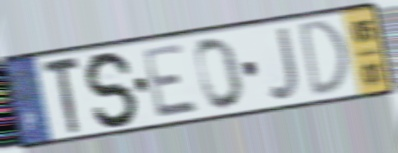D: (298, 17, 353, 102)
E: (140, 41, 202, 121)
J: (266, 24, 301, 103)
O: (194, 35, 246, 113)
S: (83, 49, 141, 130)
T: (41, 53, 83, 138)
